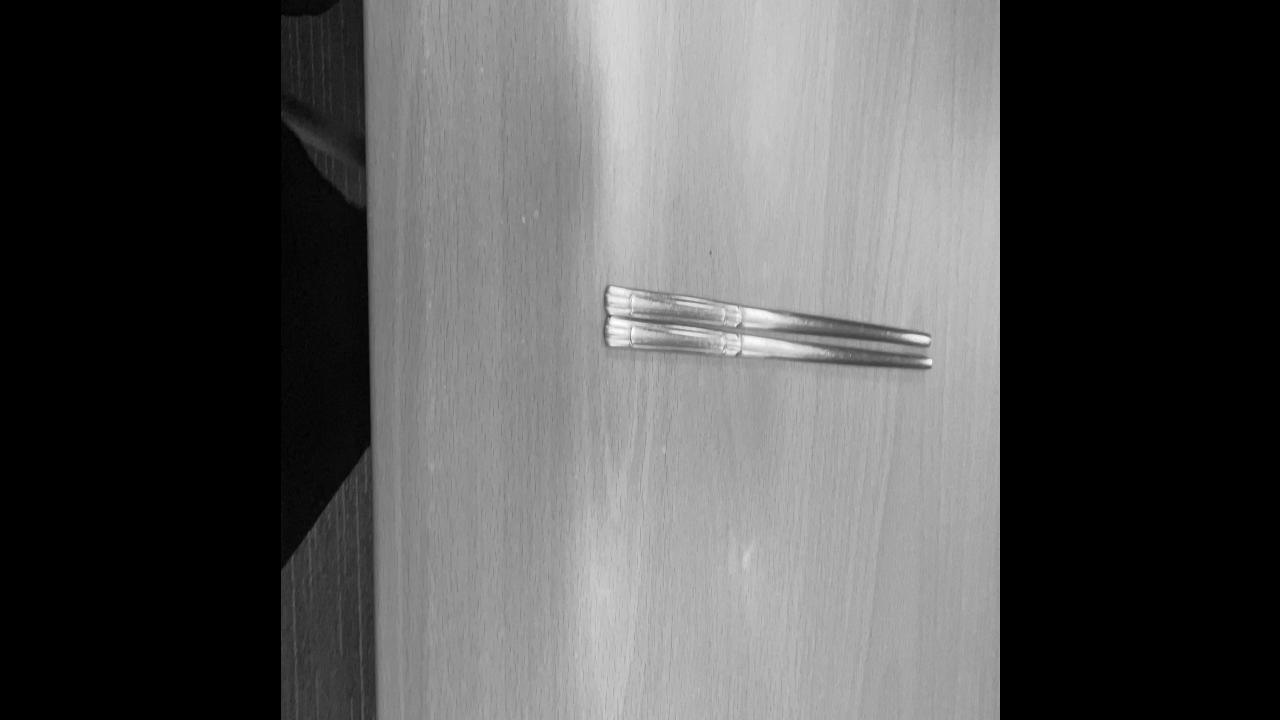chopstick: (600, 274, 935, 386)
